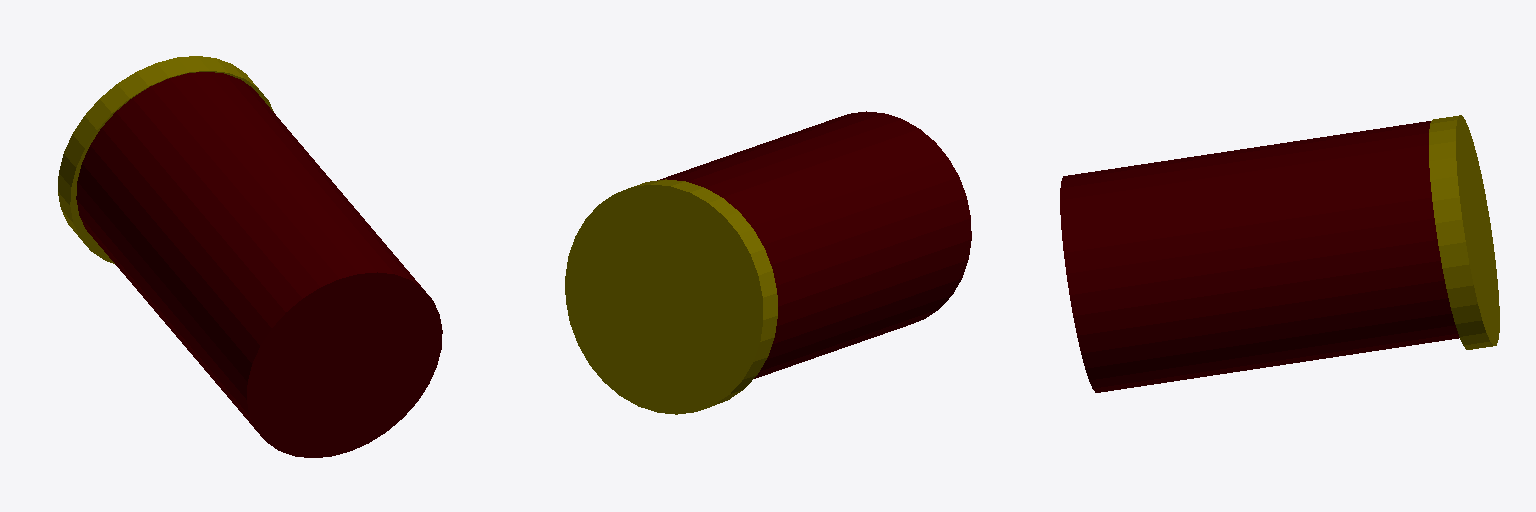
The model's file is shotgunshell.obj.
The picture shows the model from 3 angles: view 1: azimuth 30°, elevation 25°; view 2: azimuth 150°, elevation 25°; view 3: azimuth 270°, elevation 25°; orthographic projection.
Visible parts, largest first — view 1: Object.2, Object.1; view 2: Object.2, Object.1; view 3: Object.2, Object.1.
Boxes of the visible parts, x1=… form: Object.2: x1=76, y1=72, x2=442, y2=457; Object.1: x1=58, y1=56, x2=273, y2=263; Object.2: x1=657, y1=111, x2=971, y2=378; Object.1: x1=565, y1=179, x2=777, y2=414; Object.2: x1=1060, y1=121, x2=1459, y2=392; Object.1: x1=1429, y1=115, x2=1499, y2=349.
Size of the model in its own units: 56.51 by 67.12 by 101.